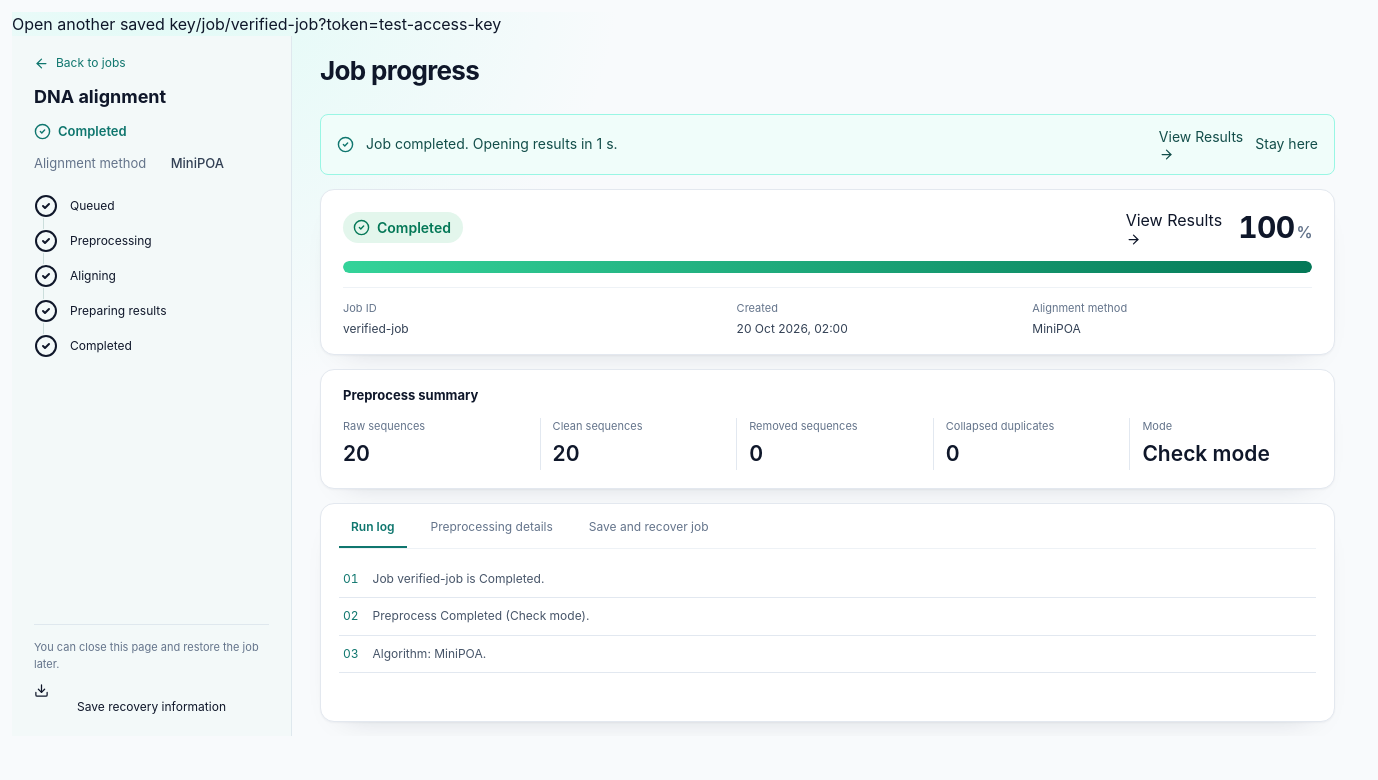
Test: opening results when a job completes › drops the old countdown when another saved key opens a completed job
The image size is (1378, 780).
Expected: the text "Job completed. Opening results in 3 s." is shown, [366, 135, 618, 152]
Click the link "Open another saved key". click: (104,24)
box: [12, 14, 196, 34]
Wait 3000 ms
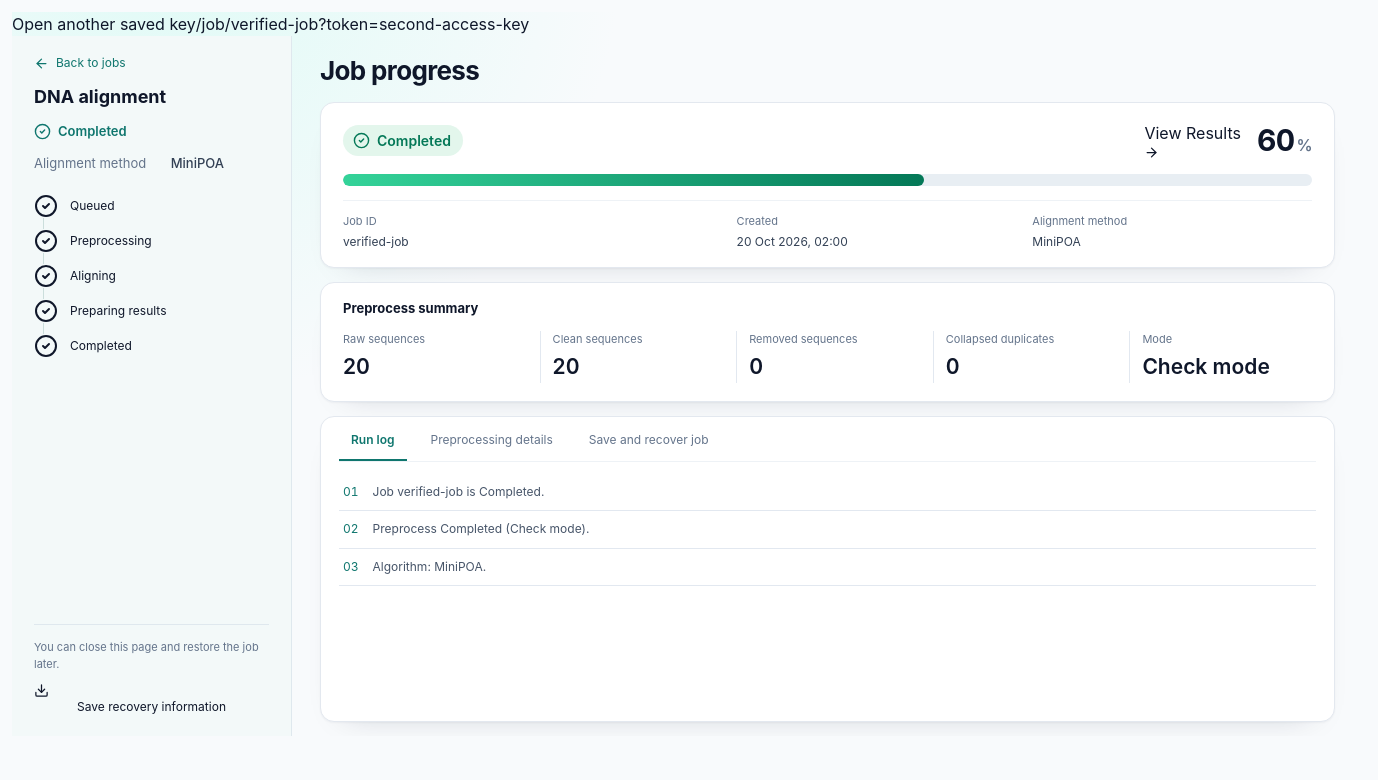
Result: the text "Opening results" is gone
Result: the text with test id "current-route" reads "/job/verified-job?token=second-access-key" at [196, 14, 529, 34]
